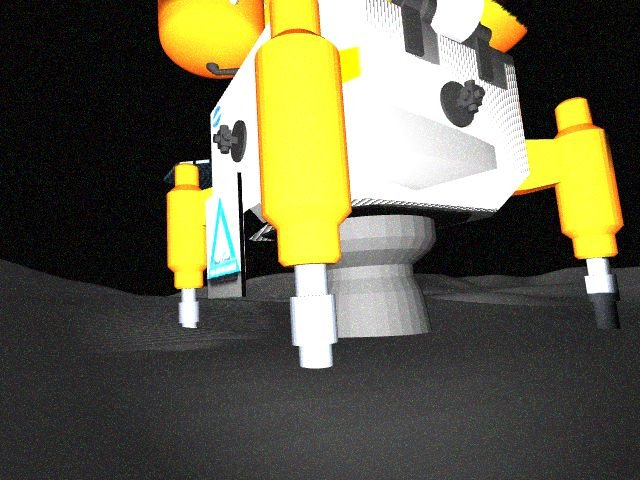basemarker: (208, 197, 239, 279)
